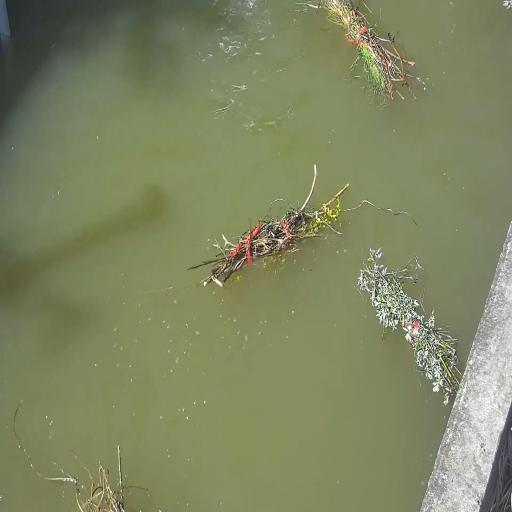twig: (188, 166, 348, 287), (358, 248, 461, 404), (13, 400, 125, 512), (322, 0, 416, 103)
